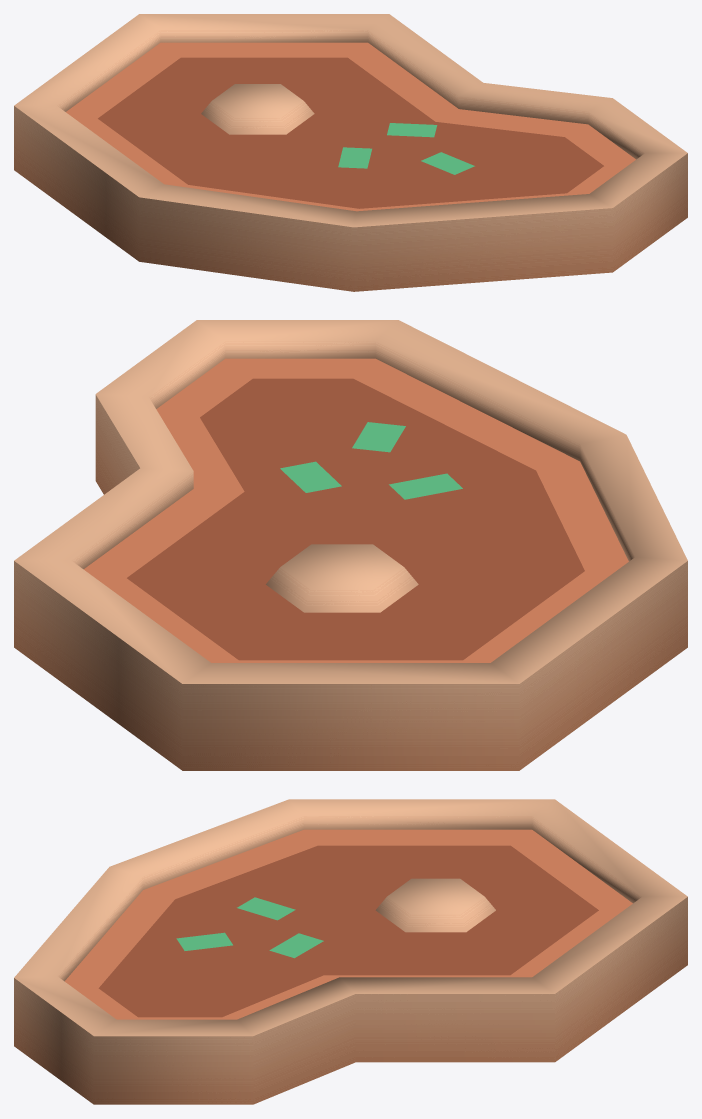
Rendered from meat-cooked.glb.
3 renders of one model, top to bottom at view 1: azimuth 30°, elevation 25°; view 2: azimuth 150°, elevation 25°; view 3: azimuth 270°, elevation 25°, orthographic. The views are drawn at different scales.
Parts seen in each view (by area): view 1: meat-cooked; view 2: meat-cooked; view 3: meat-cooked.
Part boxes in pixels (left/top/right/bottom): meat-cooked: left=14, top=14, right=687, bottom=291; meat-cooked: left=14, top=320, right=687, bottom=770; meat-cooked: left=14, top=799, right=687, bottom=1104.
Bounding box in the file's own units: 0.4785 × 0.0645 × 0.5754.
1 material, 1 textured.
